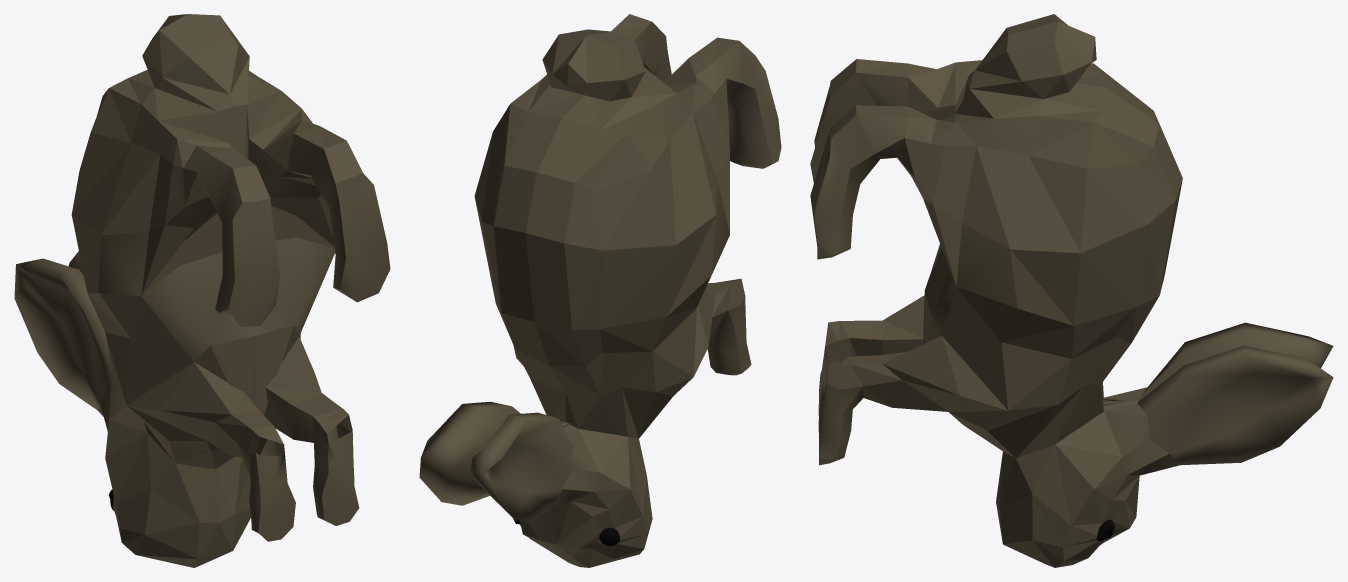
The model's file is Hase_gedreht.FBX.
3 renders of one model, left to right at view 1: azimuth 30°, elevation 25°; view 2: azimuth 150°, elevation 25°; view 3: azimuth 270°, elevation 25°, orthographic. The views are drawn at different scales.
Visible parts, largest first — view 1: Körper; view 2: Körper; view 3: Körper.
Boxes of the visible parts, x1,y1,x2,y2 form: Körper: (14,14,390,567); Körper: (419,14,781,567); Körper: (810,14,1333,567).
Size of the model in its own units: 21.29 by 50.47 by 44.05.
